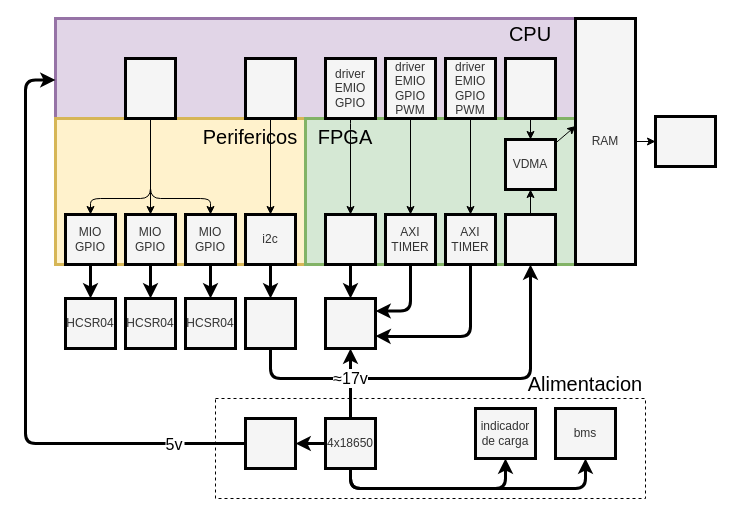
Image size: 734x516. Some labels were removed from this diagram. The shapes that lost their labels are listed below. From the top down, each one's centre as x and y in pixels, then its label:
(x=150, y=88): driver MIO GPIO
(x=270, y=88): driver I2C
(x=530, y=88): driver vdma
(x=685, y=141): pngServer
(x=350, y=239): AXI GPIO
(x=530, y=239): AXI Stream Capture
(x=270, y=323): OV7670
(x=350, y=323): L298N
(x=270, y=443): mini360
